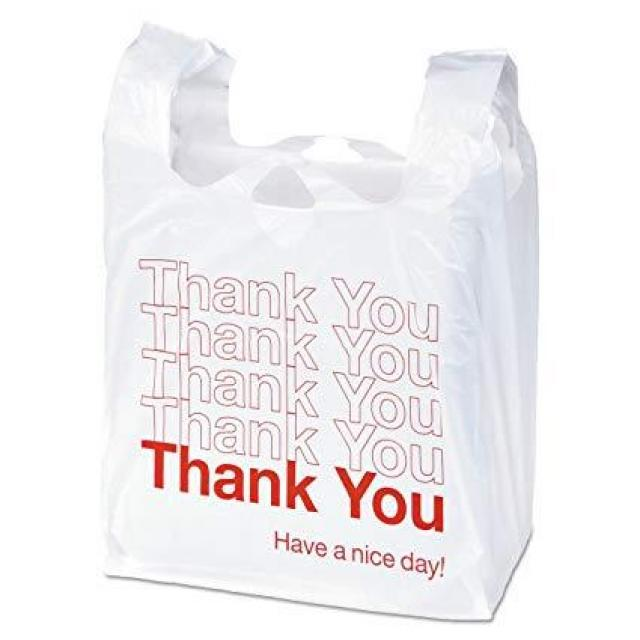plastic_bag: (86, 21, 561, 622)
